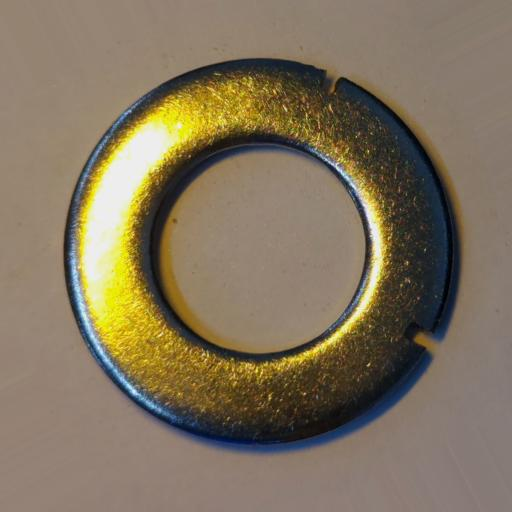burr: (402, 320, 434, 350), (319, 69, 341, 95)
